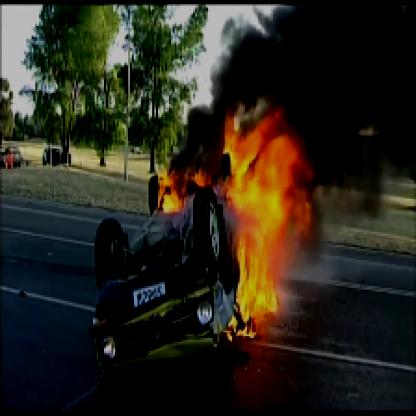Fire: (152, 83, 348, 340)
